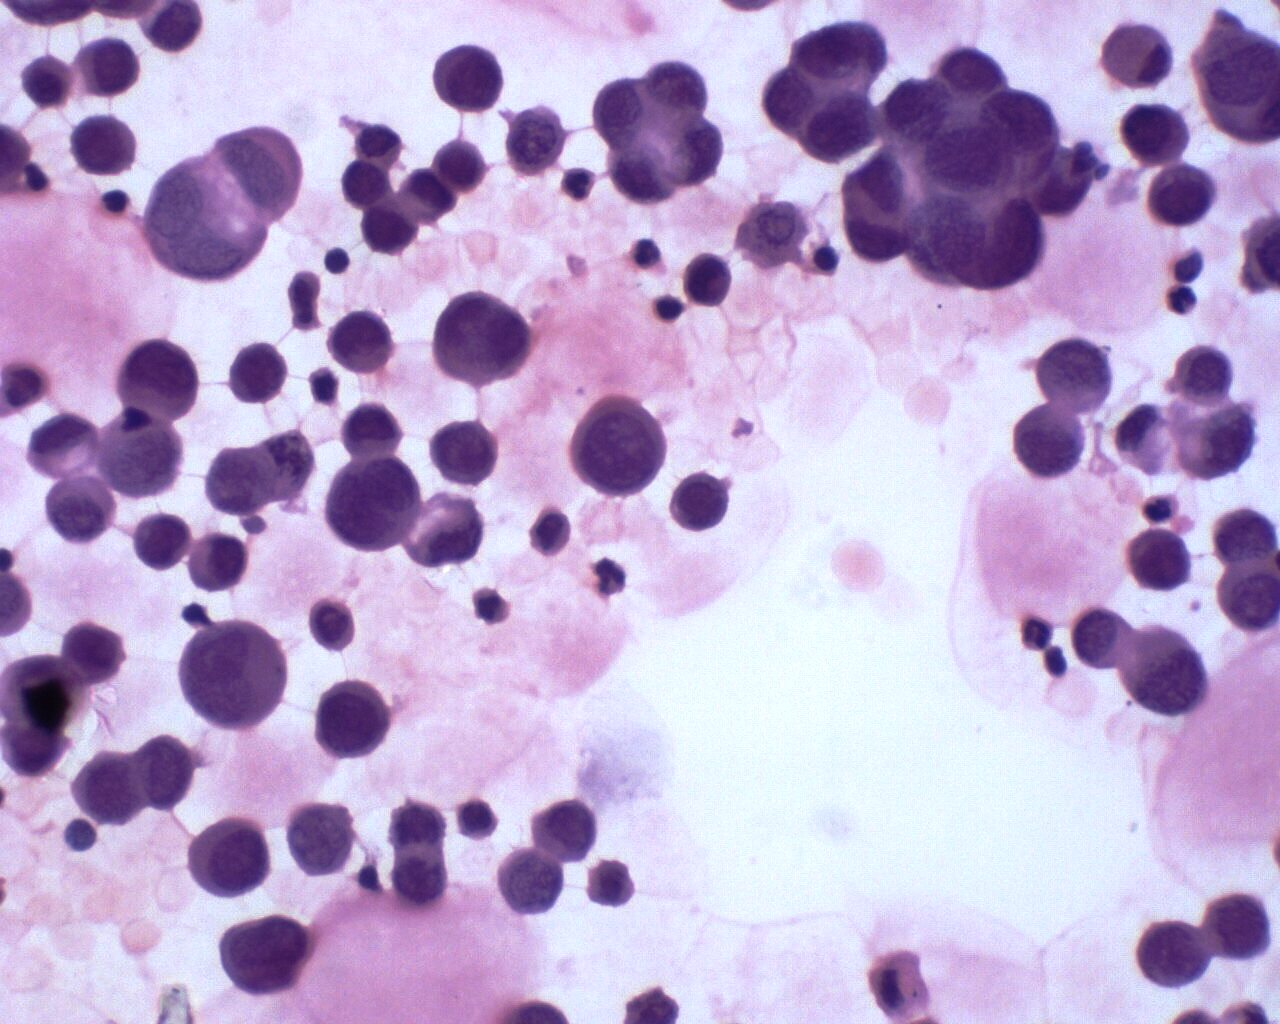ab: (179, 620, 290, 734), (434, 284, 533, 390), (569, 391, 667, 498), (326, 457, 421, 553), (219, 913, 318, 997), (791, 14, 893, 93), (185, 814, 274, 897), (115, 338, 200, 423), (313, 679, 394, 759), (69, 750, 146, 830), (1137, 914, 1213, 990), (1014, 404, 1085, 481), (494, 847, 568, 918), (432, 43, 504, 114), (1205, 888, 1271, 965), (430, 418, 501, 490), (138, 730, 196, 816), (47, 478, 118, 546), (68, 111, 138, 176), (1128, 528, 1195, 594), (1122, 101, 1190, 166), (329, 308, 394, 375), (666, 466, 729, 533), (75, 34, 142, 97), (1068, 604, 1130, 672), (1173, 339, 1236, 404), (1151, 163, 1218, 225), (227, 342, 290, 405), (135, 510, 193, 572), (191, 529, 250, 590)
lymph: (320, 243, 351, 274)
meso: (1099, 20, 1179, 85)
neutro: (588, 554, 635, 598), (1021, 613, 1054, 653), (1162, 284, 1201, 318), (560, 167, 596, 201), (632, 237, 666, 269)
